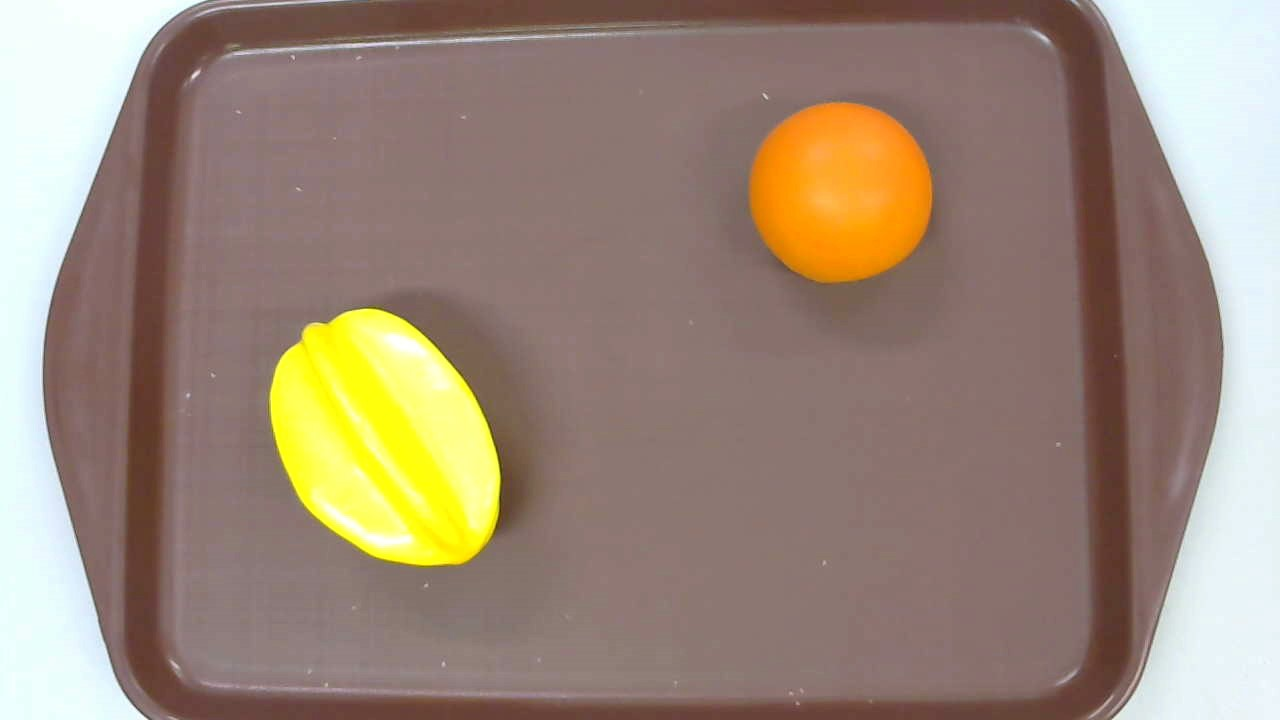bun: (747, 101, 933, 286)
star fruit: (270, 307, 500, 569)
